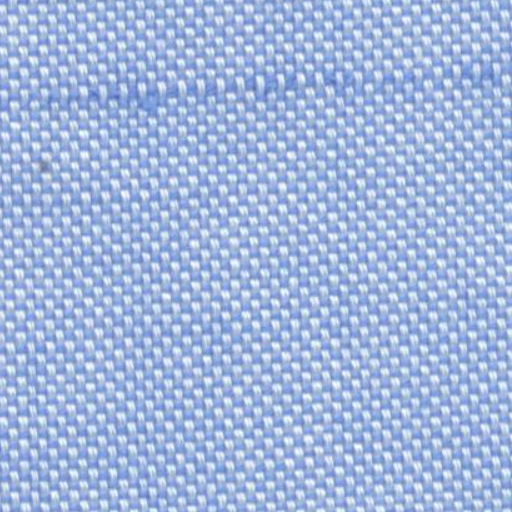DaiSha: (48, 58, 484, 106)
